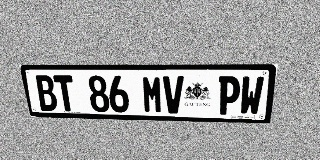6: (107, 76, 129, 112)
8: (87, 75, 110, 112)
B: (34, 75, 58, 111)
M: (141, 76, 163, 113)
P: (217, 76, 241, 115)
T: (53, 75, 77, 111)
V: (163, 76, 184, 114)
W: (238, 76, 264, 115)
